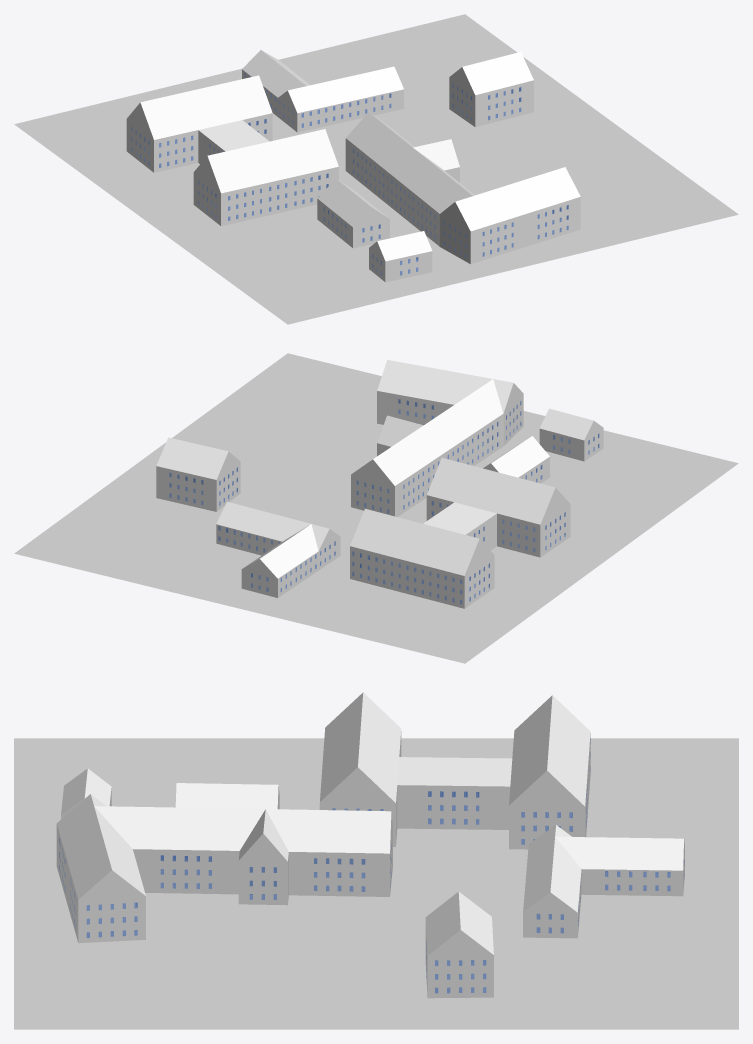
3 renders of one model, top to bottom at view 1: azimuth 30°, elevation 25°; view 2: azimuth 150°, elevation 25°; view 3: azimuth 270°, elevation 25°, orthographic. The views are drawn at different scales.
Parts seen in each view (by area): view 1: image_0, SketchUp (×6); view 2: image_0, SketchUp (×6); view 3: image_0, SketchUp (×6).
Boxes of the visible parts, box(x1,y1,x2,y2) form: image_0: box(14, 14, 738, 324); SketchUp (×6): box(126, 50, 580, 282); image_0: box(14, 353, 738, 663); SketchUp (×6): box(156, 360, 603, 608); image_0: box(14, 738, 738, 1029); SketchUp (×6): box(56, 692, 684, 998).
Bounding box in the file's own units: 221 × 232 × 28.
